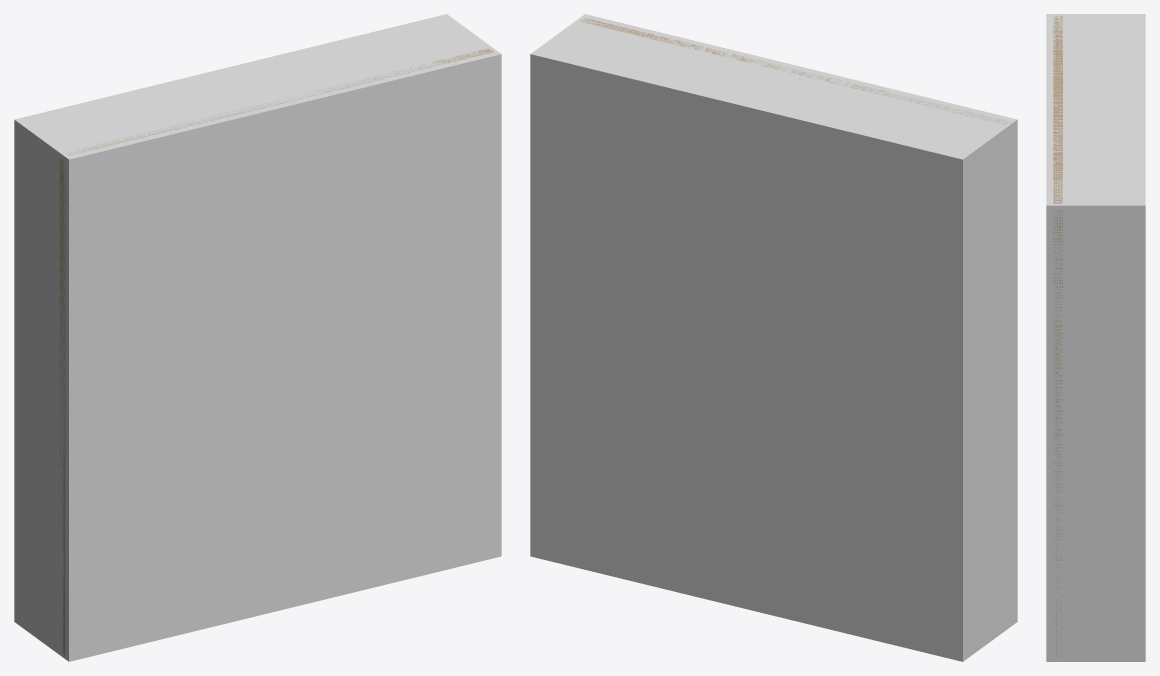
File: standard.glb
3 views of the same model, side by side, from view 1: azimuth 30°, elevation 25°; view 2: azimuth 150°, elevation 25°; view 3: azimuth 270°, elevation 25° (orthographic). The views are drawn at different scales.
Visible parts, largest first — view 1: COL_WALL_SHELVING_STANDARD, WallShelf_Back.001; view 2: COL_WALL_SHELVING_STANDARD, WallShelf_Back.001; view 3: COL_WALL_SHELVING_STANDARD, WallShelf_Back.001.
Part boxes in pixels (x1,y1,x2,y2): COL_WALL_SHELVING_STANDARD: (14,14,501,661); WallShelf_Back.001: (59,48,493,654); COL_WALL_SHELVING_STANDARD: (530,14,1017,661); WallShelf_Back.001: (580,18,1008,124); COL_WALL_SHELVING_STANDARD: (1046,14,1145,661); WallShelf_Back.001: (1053,16,1062,657).
Bounding box in the file's own units: 1.55 × 1.72 × 0.34.
